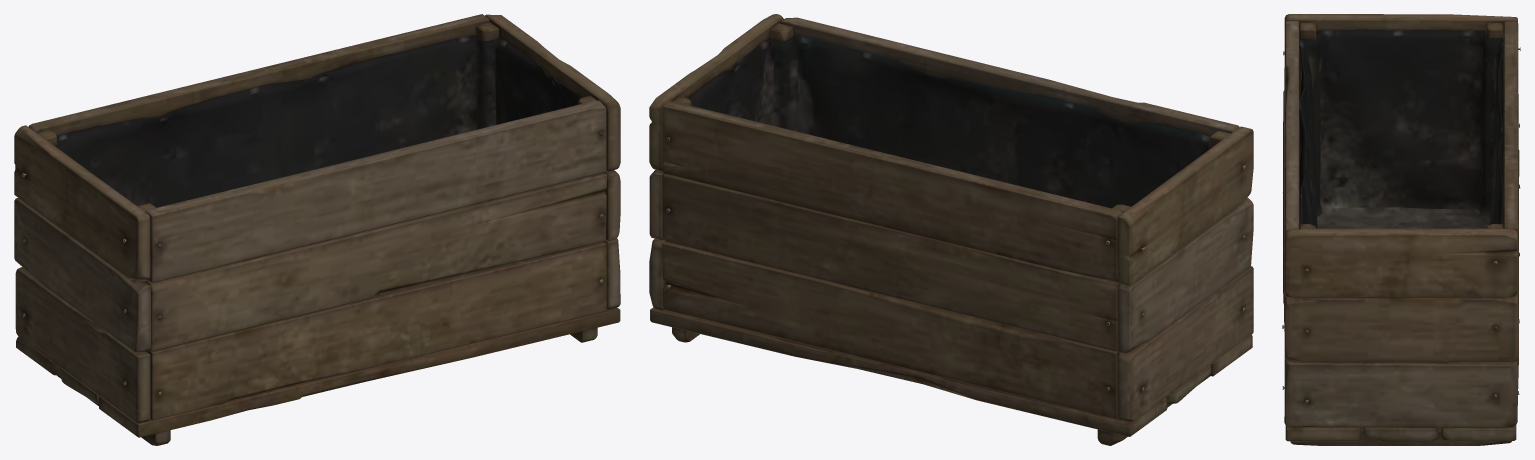
The model's file is planter_box_01.glb.
The picture shows the model from 3 angles, left to right: view 1: azimuth 30°, elevation 25°; view 2: azimuth 150°, elevation 25°; view 3: azimuth 270°, elevation 25°; orthographic projection. The views are drawn at different scales.
Visible parts, largest first — view 1: planter_box_01; view 2: planter_box_01; view 3: planter_box_01.
Boxes of the visible parts, box(x1,y1,x2,y2) form: planter_box_01: box(14, 14, 620, 445); planter_box_01: box(649, 14, 1253, 445); planter_box_01: box(1282, 14, 1520, 445).
Size of the model in its own units: 0.9126 by 0.425 by 0.4137.
1 material, 1 textured.
